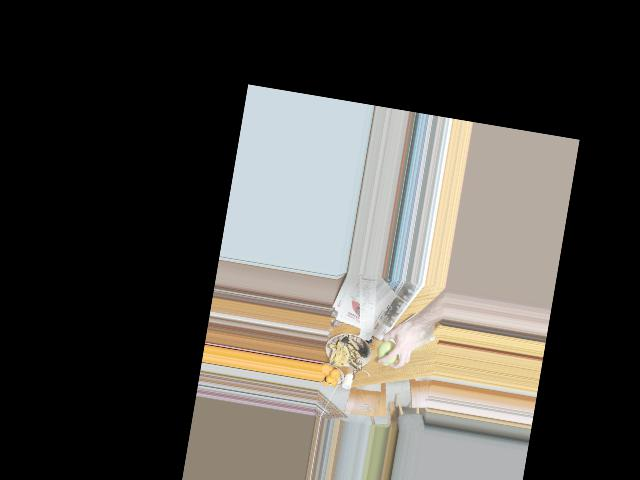apple: (375, 338, 401, 366)
